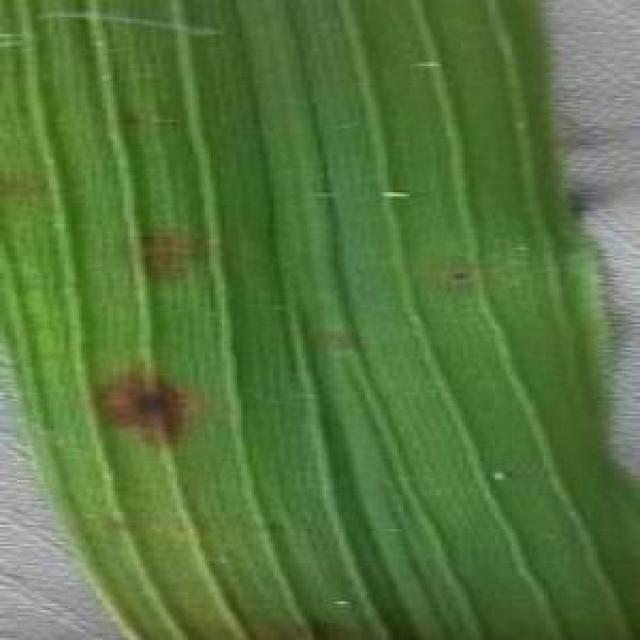Brown_Spot: (91, 362, 192, 442), (123, 228, 204, 288)
